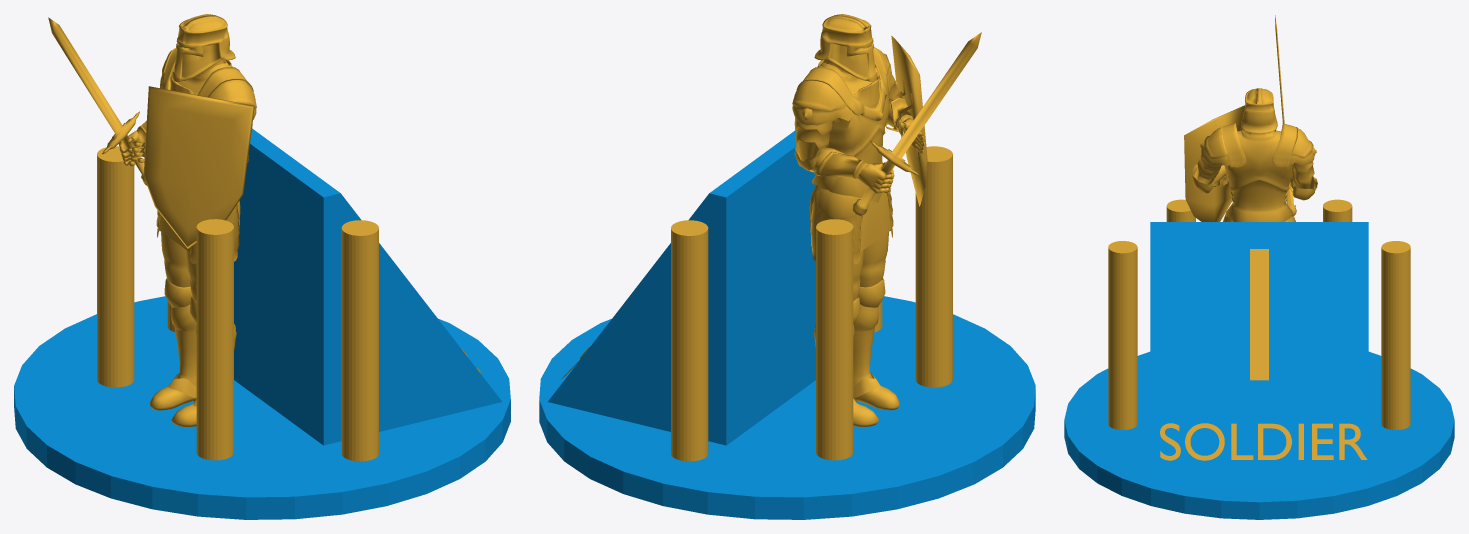
Rendered from TCSoldier1.fbx.
3 renders of one model, left to right at view 1: azimuth 30°, elevation 25°; view 2: azimuth 150°, elevation 25°; view 3: azimuth 270°, elevation 25°, orthographic. The views are drawn at different scales.
Parts seen in each view (by area): view 1: Soldier1; view 2: Soldier1; view 3: Soldier1.
Part boxes in pixels (x1=…): Soldier1: x1=14, y1=14, x2=510, y2=519; Soldier1: x1=539, y1=14, x2=1035, y2=519; Soldier1: x1=1064, y1=15, x2=1454, y2=519.
Size of the model in its own units: 180 by 176 by 180.
